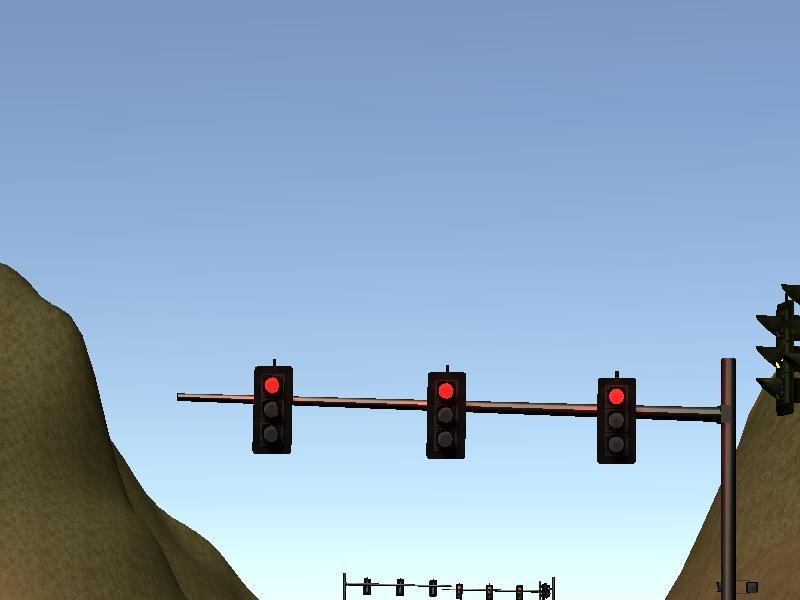red: (250, 363, 295, 455), (424, 370, 468, 460), (595, 376, 638, 465)
